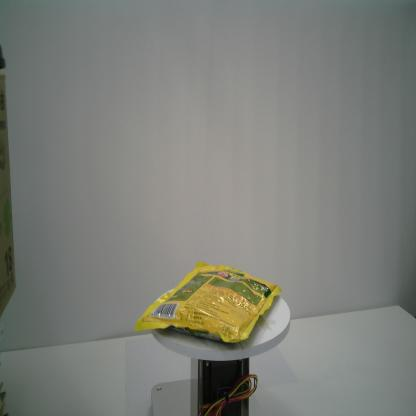Seasoner: (133, 259, 283, 345)
